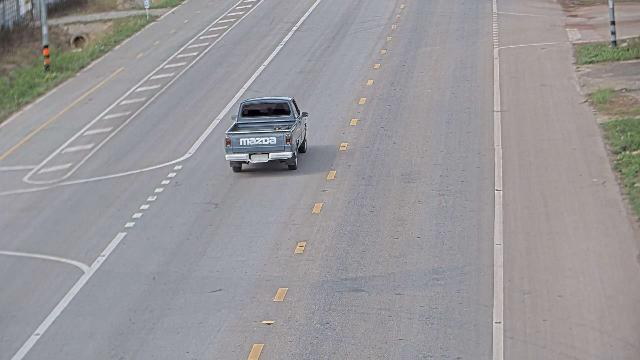pickup-truck: (223, 95, 309, 172)
